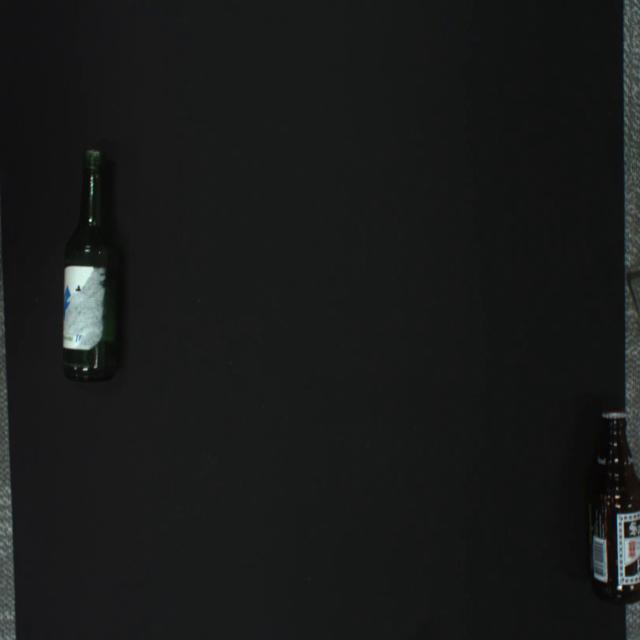beer-bottle: (585, 412, 640, 606)
soju-bottle: (62, 151, 122, 382)
